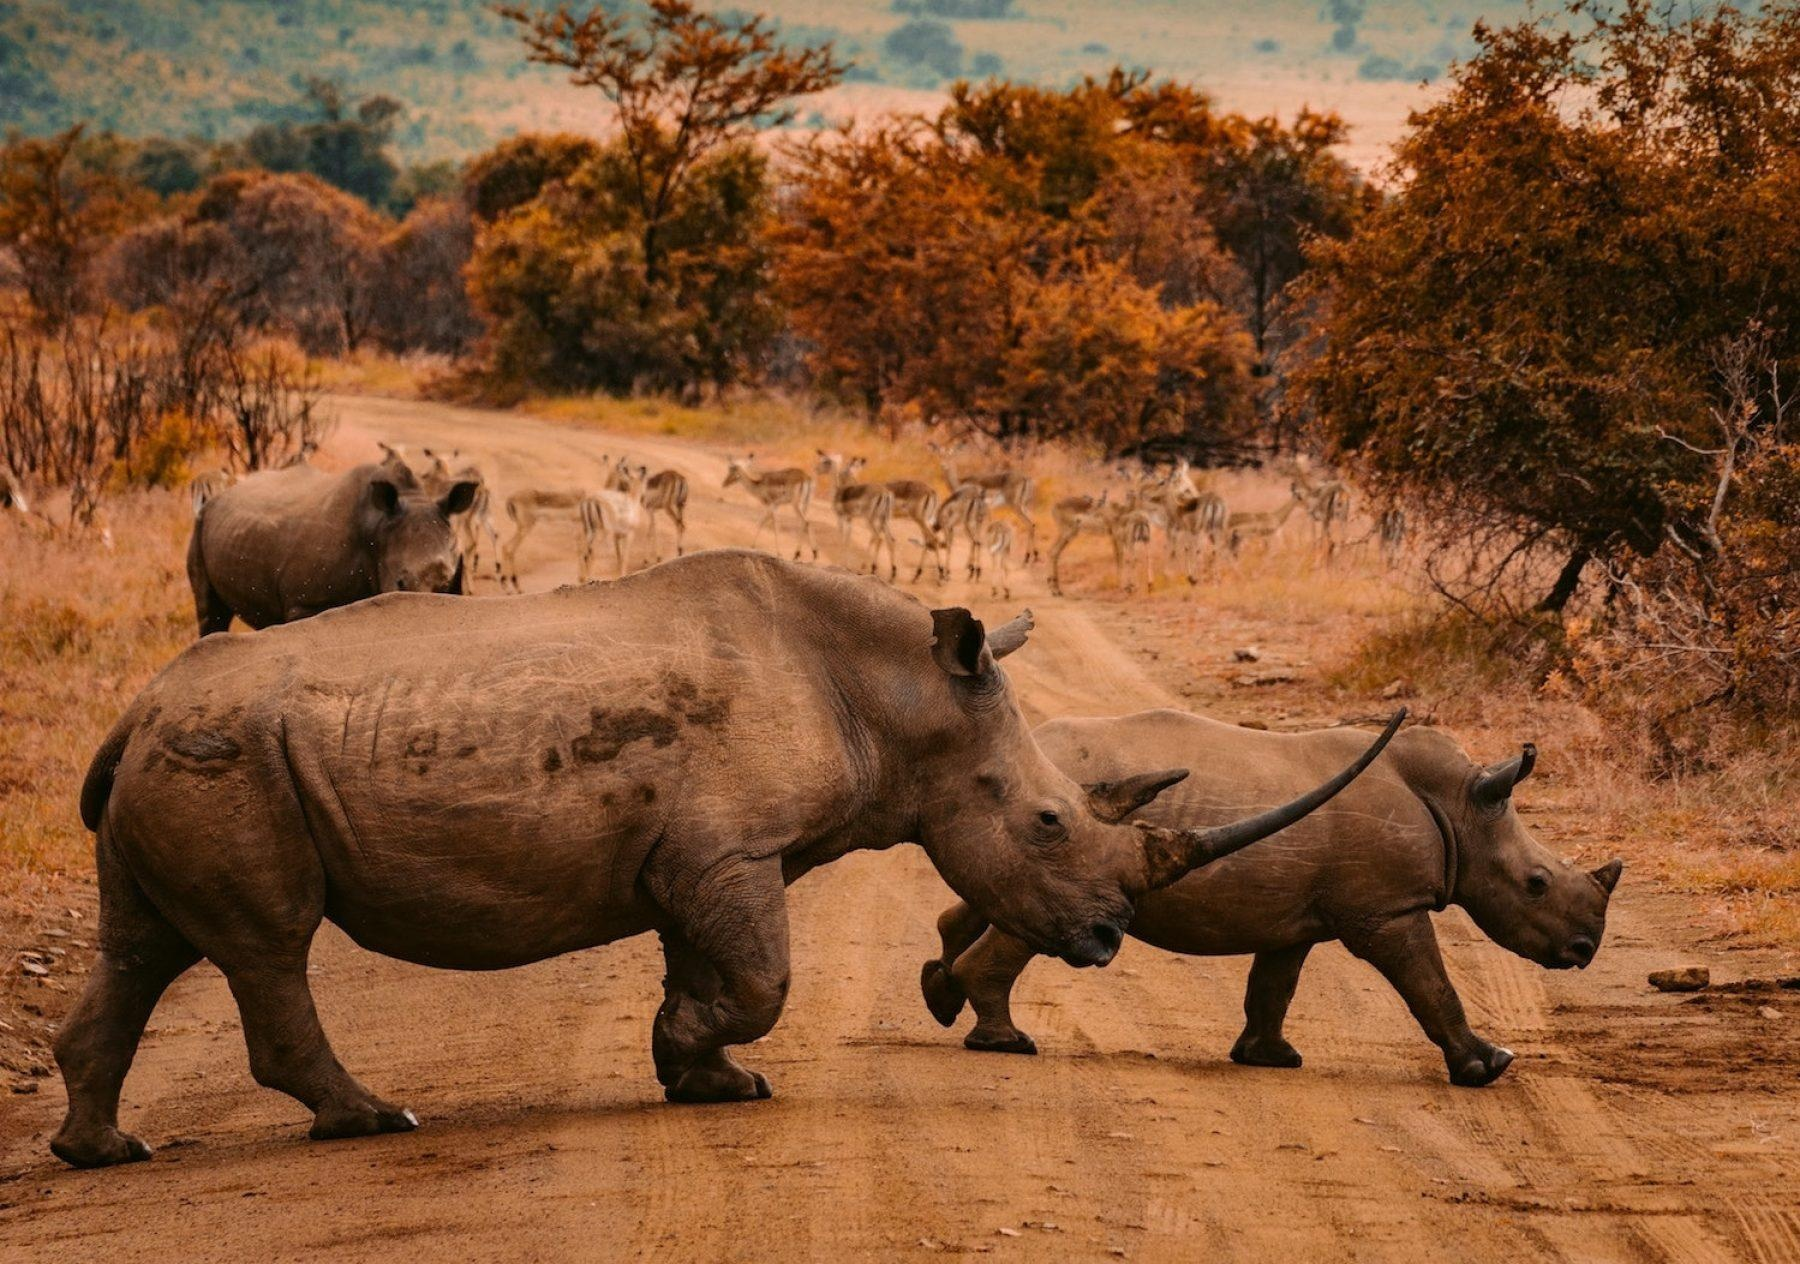rhino: (47, 532, 1414, 1181), (931, 717, 1625, 1105), (181, 445, 480, 653)
